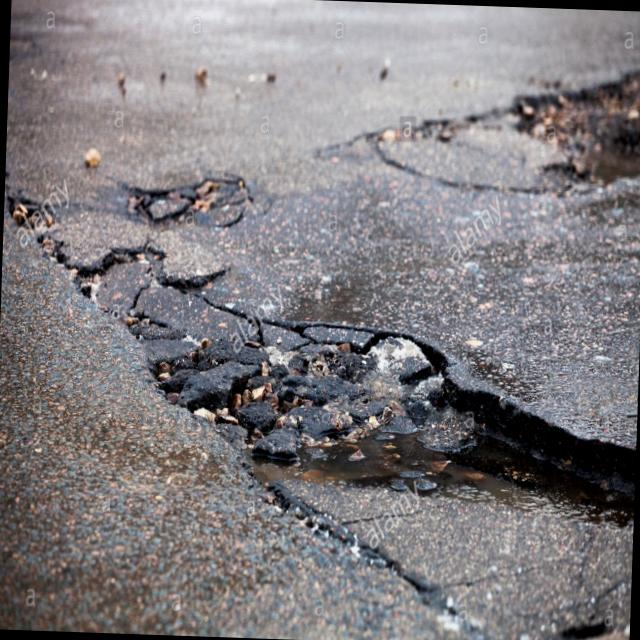bad-road: (0, 164, 640, 640), (504, 59, 640, 197)
